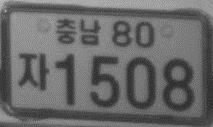0: (124, 56, 157, 110), (134, 20, 155, 48)
1: (52, 52, 83, 105)
5: (88, 54, 121, 108)
8: (161, 57, 195, 112), (111, 19, 132, 47)
자: (17, 51, 49, 91)
충남_H: (54, 17, 100, 45)
